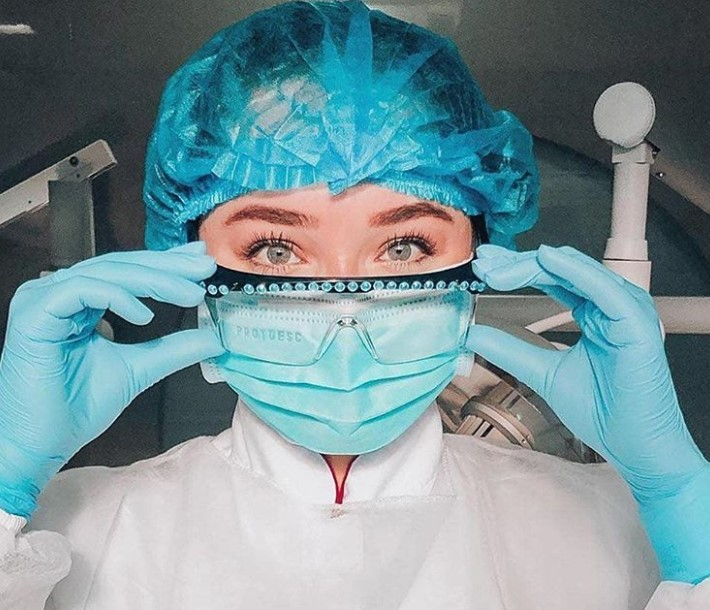face_with_mask: (153, 12, 515, 462)
